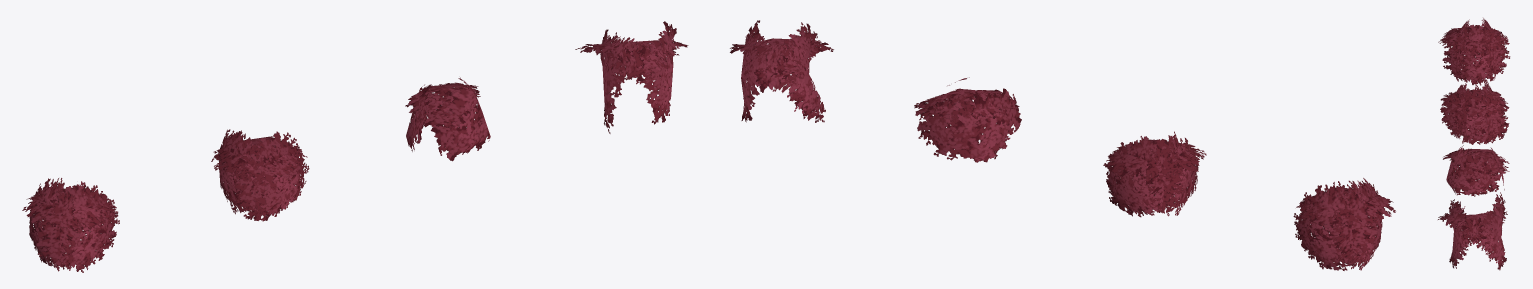
Rendered from leavesV2.glb.
3 views of the same model, side by side, from view 1: azimuth 30°, elevation 25°; view 2: azimuth 150°, elevation 25°; view 3: azimuth 270°, elevation 25° (orthographic). The views are drawn at different scales.
Parts seen in each view (by area): view 1: leaves_04, leaves_03, leaves_01, leaves_02; view 2: leaves_04, leaves_03, leaves_02, leaves_01; view 3: leaves_04, leaves_03, leaves_01, leaves_02.
Boxes of the visible parts, left/top/right/bottom form: leaves_04: left=22, top=178, right=119, bottom=272; leaves_03: left=211, top=129, right=309, bottom=221; leaves_01: left=575, top=21, right=688, bottom=133; leaves_02: left=405, top=77, right=490, bottom=161; leaves_04: left=1293, top=178, right=1395, bottom=270; leaves_03: left=1103, top=131, right=1206, bottom=217; leaves_02: left=914, top=77, right=1021, bottom=162; leaves_01: left=730, top=20, right=833, bottom=122; leaves_04: left=1438, top=18, right=1510, bottom=86; leaves_03: left=1440, top=79, right=1509, bottom=144; leaves_01: left=1438, top=192, right=1507, bottom=270; leaves_02: left=1443, top=145, right=1509, bottom=196.
Size of the model in its own units: 7.02 by 1.11 by 1.13.
Materials: 1 (1 with a texture image).
